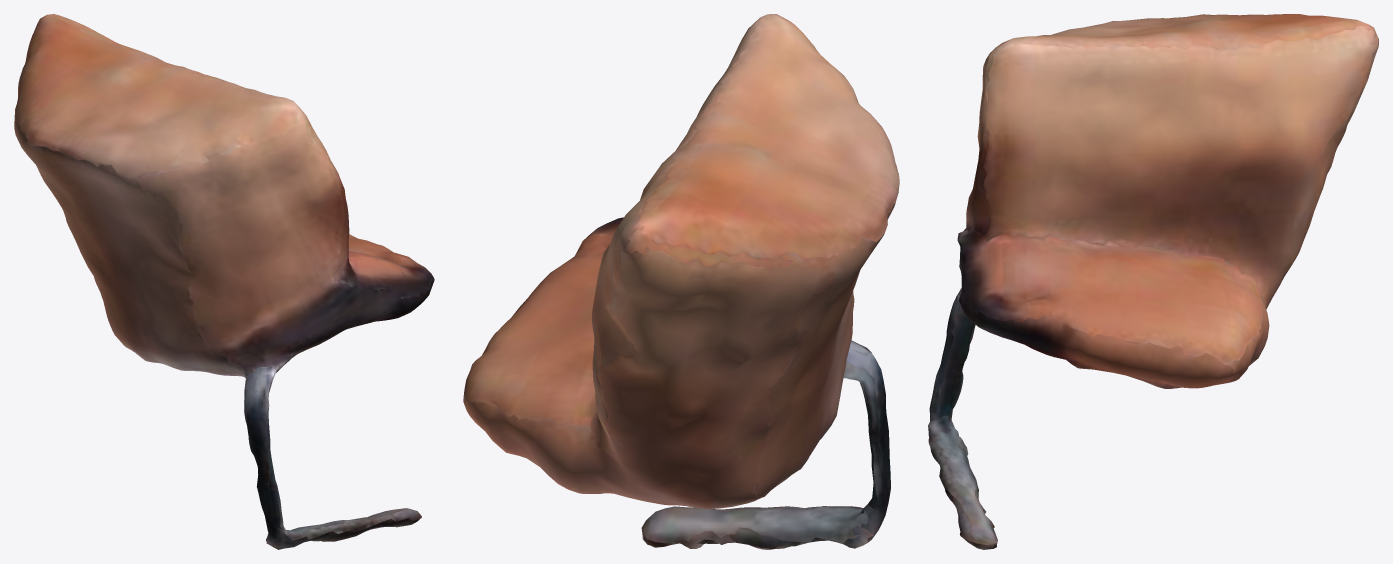
Rendered from 6_chair.glb.
3 renders of one model, left to right at view 1: azimuth 30°, elevation 25°; view 2: azimuth 150°, elevation 25°; view 3: azimuth 270°, elevation 25°, orthographic. The views are drawn at different scales.
Visible parts, largest first — view 1: 6_chair; view 2: 6_chair; view 3: 6_chair.
Boxes of the visible parts, x1,y1,x2,y2 form: 6_chair: (14,14,434,549); 6_chair: (463,14,899,549); 6_chair: (928,14,1378,549).
Bounding box in the file's own units: 0.8284 × 1.1 × 0.9892.
1 material, 1 textured.
